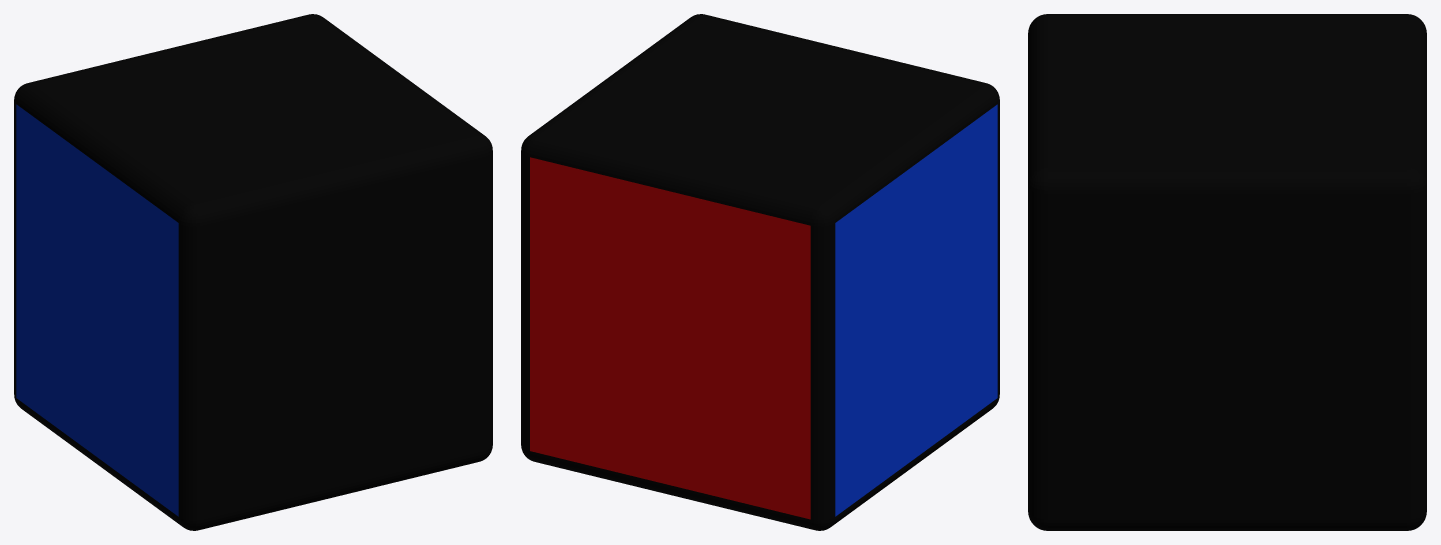
File: beta1.obj
The picture shows the model from 3 angles, left to right: view 1: azimuth 30°, elevation 25°; view 2: azimuth 150°, elevation 25°; view 3: azimuth 270°, elevation 25°; orthographic projection. The views are drawn at different scales.
Visible parts, largest first — view 1: Cube.002; view 2: Cube.002; view 3: Cube.002.
Part boxes in pixels (x1,y1,x2,y2): Cube.002: [14, 14, 492, 530]; Cube.002: [521, 14, 999, 530]; Cube.002: [1028, 14, 1426, 530].
Size of the model in its own units: 4.28 by 4.28 by 4.28.
